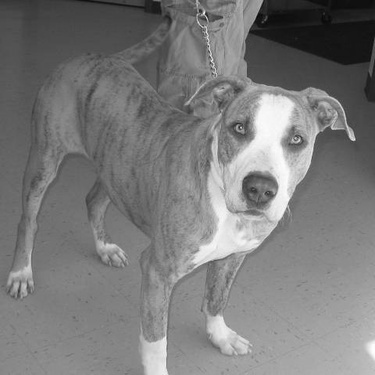dog: (8, 43, 359, 373)
